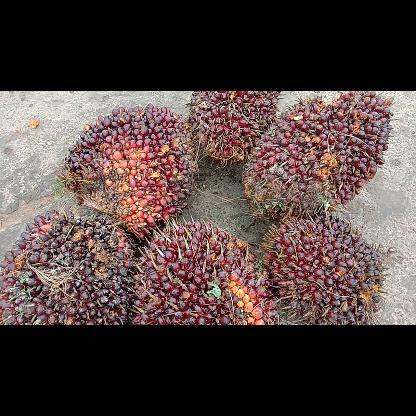Kurang masak: (240, 91, 398, 219), (58, 103, 200, 241), (130, 216, 283, 324), (0, 208, 136, 324), (260, 214, 390, 324), (185, 91, 281, 171)
